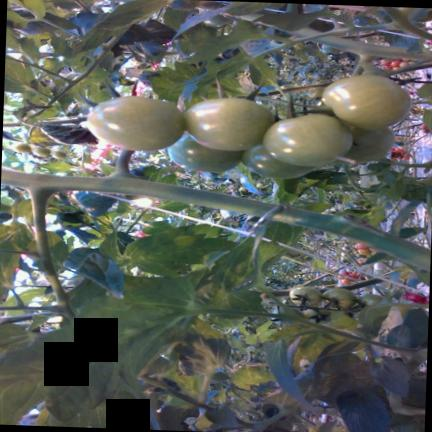6kp_peduncle: (72, 147, 174, 198)
6kp_petiole: (1, 167, 90, 237)
MainStem: (2, 168, 431, 271), (310, 34, 431, 60)
tomato: (87, 96, 185, 150), (185, 97, 275, 150), (323, 75, 410, 129), (263, 113, 352, 165), (167, 134, 242, 171), (242, 144, 315, 178), (332, 127, 394, 164), (323, 287, 356, 308), (289, 286, 321, 305), (359, 293, 382, 305), (31, 145, 50, 155), (13, 142, 31, 152), (307, 87, 324, 97), (50, 149, 66, 158), (354, 242, 369, 249)
